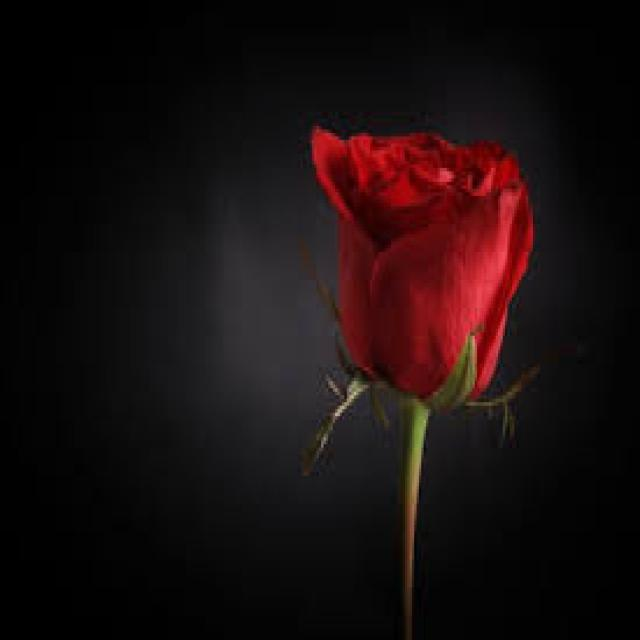rose: (306, 90, 540, 434)
